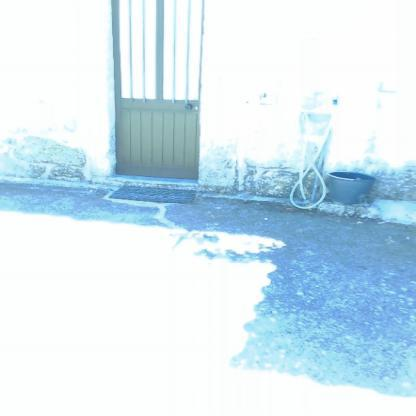door: (110, 0, 202, 174)
knob: (184, 104, 192, 111)
